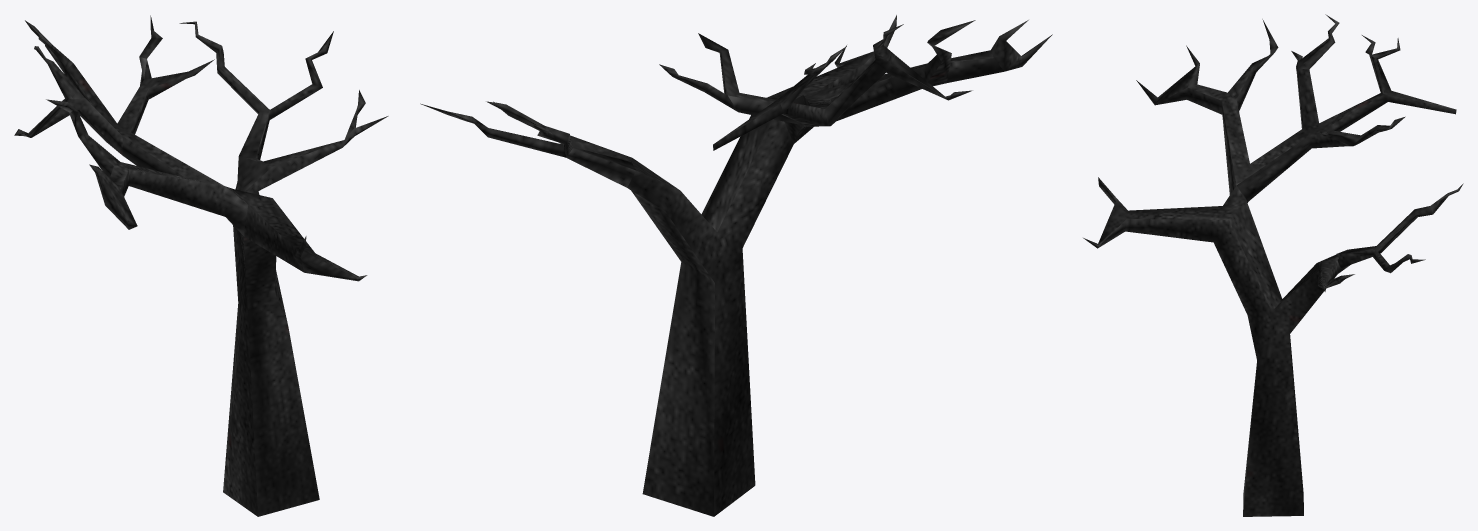
Rendered from Tree 1.obj.
3 renders of one model, left to right at view 1: azimuth 30°, elevation 25°; view 2: azimuth 150°, elevation 25°; view 3: azimuth 270°, elevation 25°, orthographic. The views are drawn at different scales.
Visible parts, largest first — view 1: Tree1; view 2: Tree1; view 3: Tree1.
Part boxes in pixels (bbox=[...]): Tree1: bbox=[14, 15, 388, 516]; Tree1: bbox=[420, 15, 1052, 516]; Tree1: bbox=[1083, 14, 1463, 516].
Bounding box in the file's own units: 2.01 × 2.3 × 1.95.
Materials: 1 (1 with a texture image).
